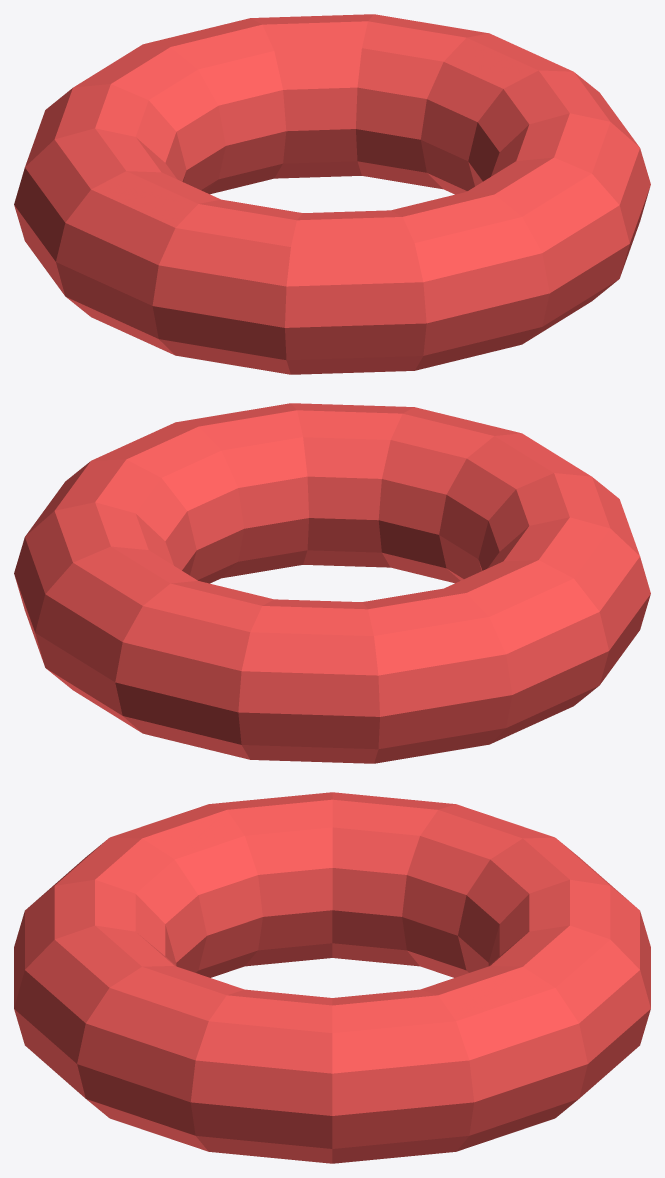
The model's file is inflatable_pool_float_ring_-_low_poly.glb.
The picture shows the model from 3 angles, top to bottom: view 1: azimuth 30°, elevation 25°; view 2: azimuth 150°, elevation 25°; view 3: azimuth 270°, elevation 25°; orthographic projection. The views are drawn at different scales.
Visible parts, largest first — view 1: Floatie; view 2: Floatie; view 3: Floatie.
Part boxes in pixels (x1=…): Floatie: x1=14, y1=14, x2=650, y2=374; Floatie: x1=14, y1=403, x2=650, y2=763; Floatie: x1=14, y1=792, x2=650, y2=1163.
Bounding box in the file's own units: 1.21 × 0.3071 × 1.18.
Materials: 1 (1 with a texture image).
